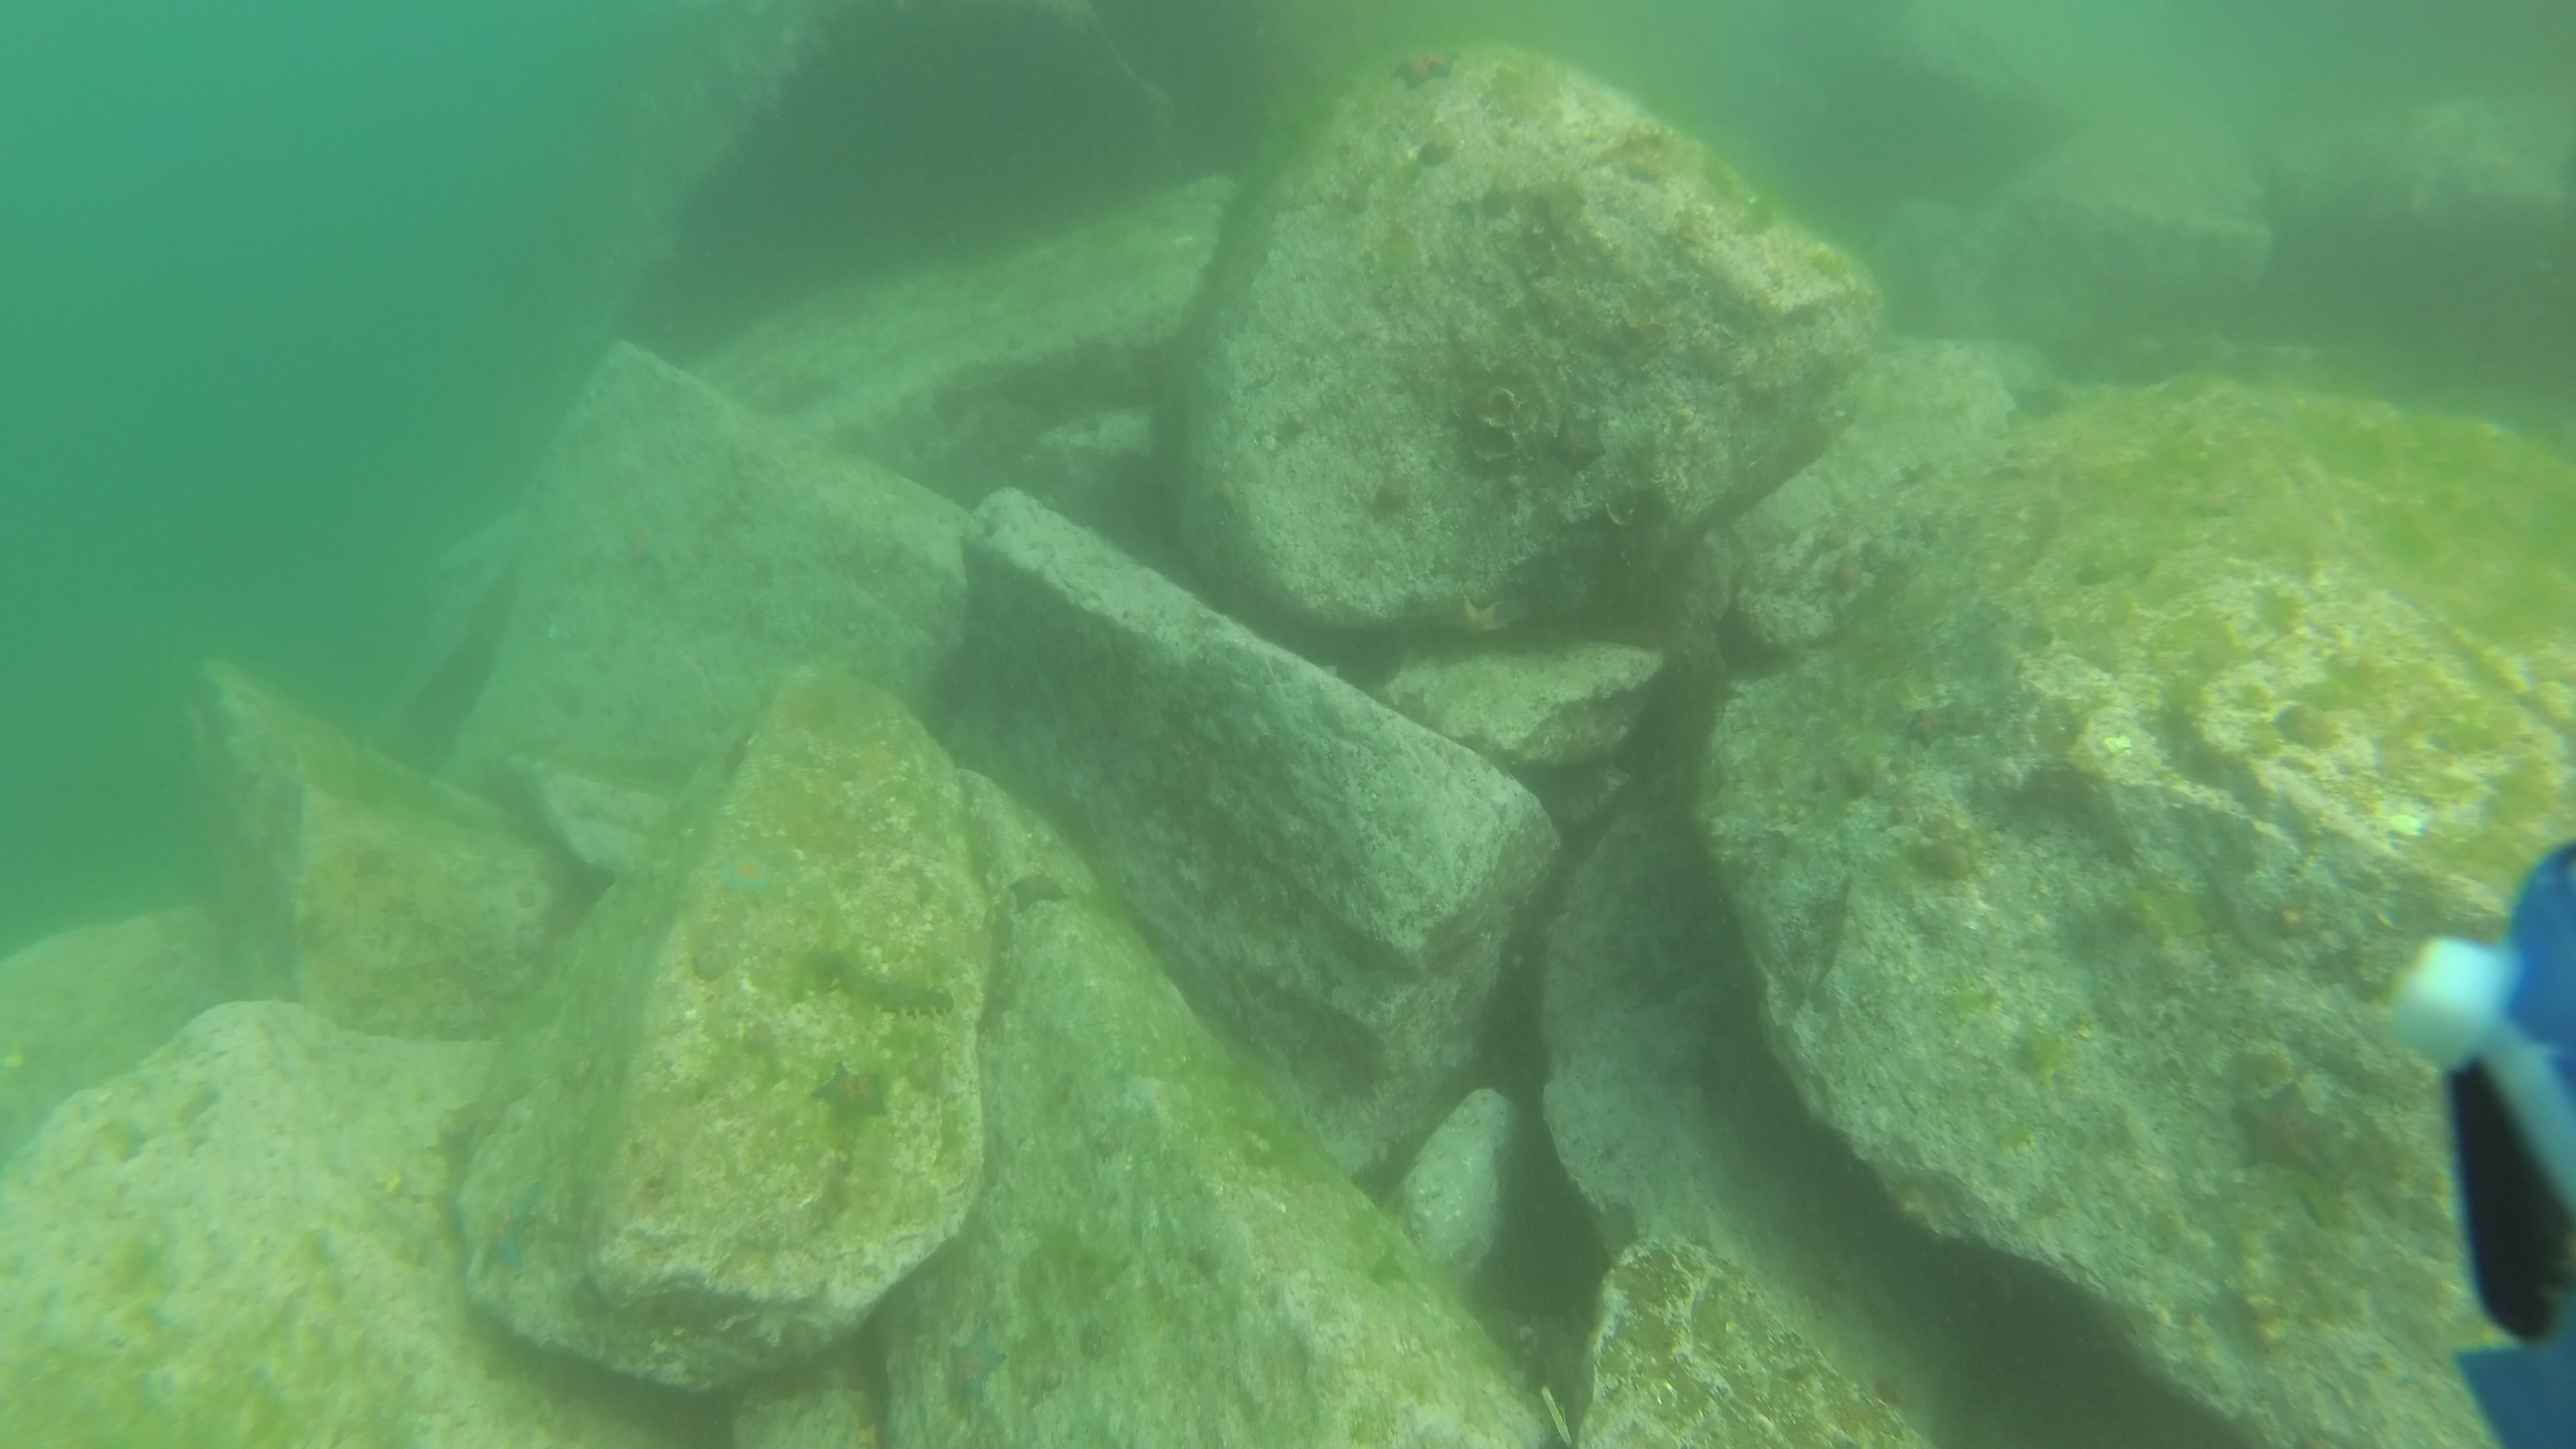holothurian: (819, 936, 961, 1024)
starfish: (801, 1056, 893, 1129), (1545, 400, 1612, 479), (713, 842, 782, 902), (1438, 591, 1513, 646), (1005, 865, 1072, 920), (1384, 42, 1465, 87), (1902, 697, 1959, 757)
